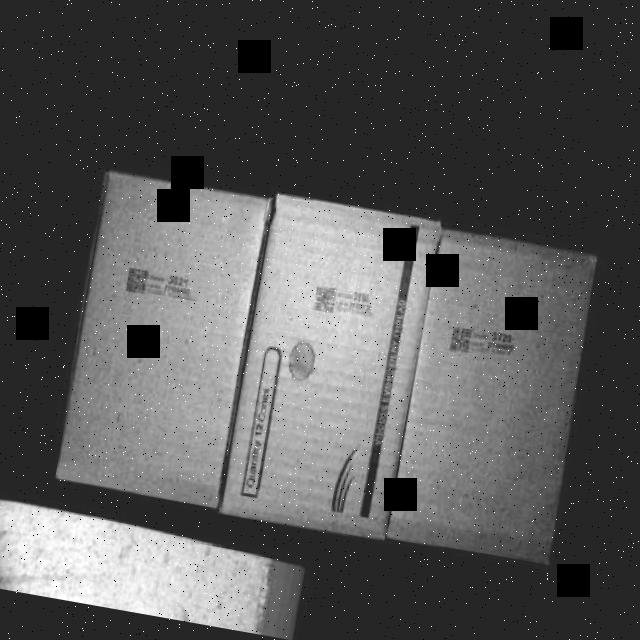box: (55, 170, 271, 510), (220, 194, 432, 540), (396, 228, 598, 562)
